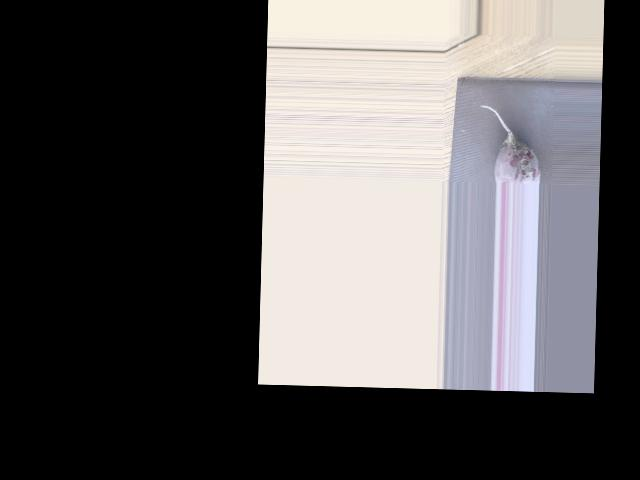beet: (479, 104, 542, 183)
